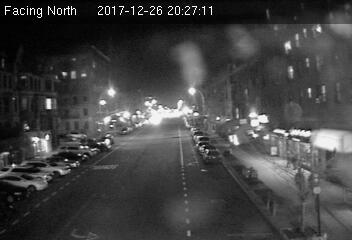car: (202, 149, 222, 163)
